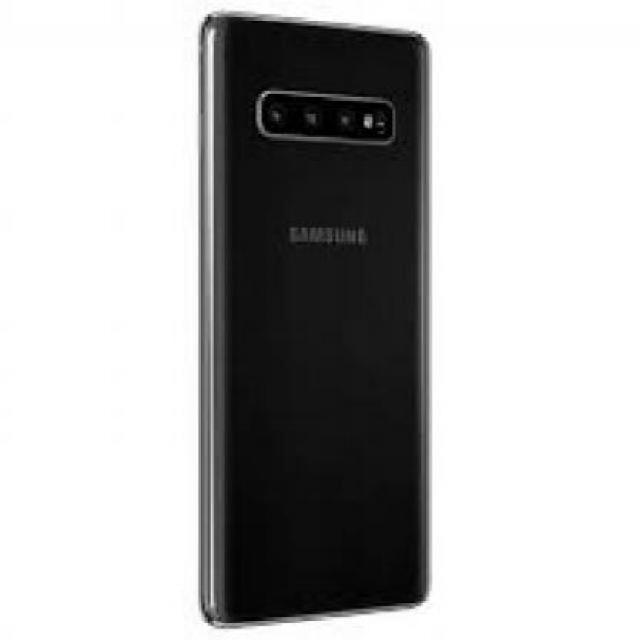fake: (198, 12, 436, 632)
